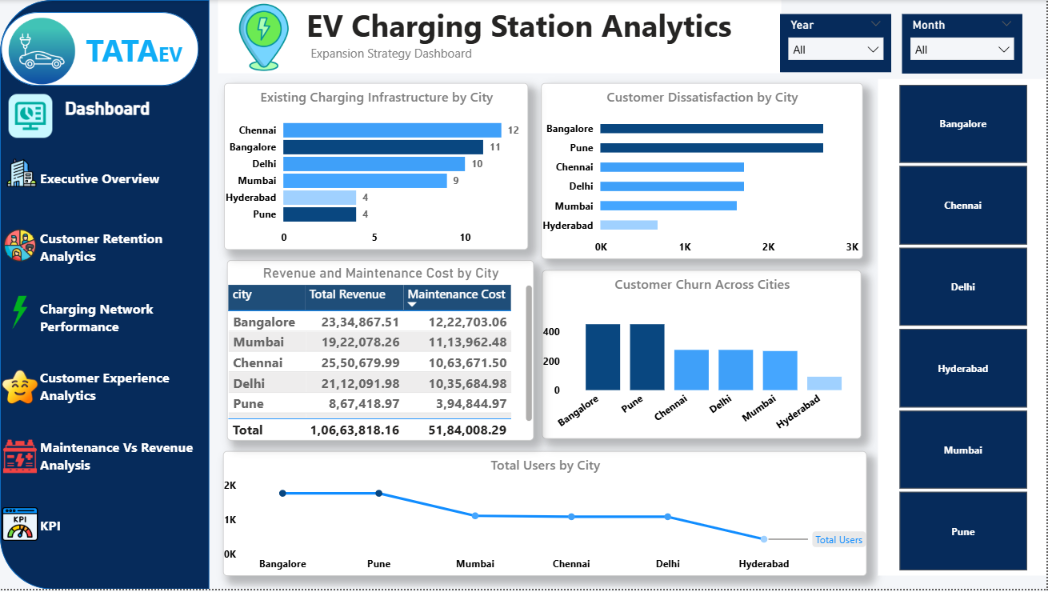

The page's visual inventory and layout, read from the dashboard file:
{"tool":"powerbi","page":{"name":"Expansion Strategy Dashboard","canvas":[1280,720],"ordinal":5},"visuals":[{"type":"group","id":"g1","title":"Group 2","box":[273.1,101.3,787.2,603.1],"z":0},{"type":"group","id":"g2","title":"Group 4","box":[266.6,0,688.5,89.3],"z":1000},{"type":"group","id":"g3","title":"Group 3","box":[0,0,256,720.7],"z":2000},{"type":"textbox","box":[266.6,0,688.5,89.3],"z":2000,"group":"g2"},{"type":"image","box":[269.4,3.7,107.4,84.4],"z":3000,"group":"g2"},{"type":"slicer","fields":{"Values":["City Table.city"]},"box":[1074,96.9,206,607.4],"z":3000},{"type":"shape","box":[0,0,256,720.7],"z":3500,"group":"g3"},{"type":"shape","box":[0.9,14.8,241.7,90.2],"z":3750,"group":"g3"},{"type":"slicer","fields":{"Values":["Date Table.Date.Variation.Date Hierarchy.Year"]},"box":[954.3,16.7,136.3,71.2],"z":4000},{"type":"pageNavigator","box":[49.4,182.5,205.8,495.4],"z":4000,"group":"g3"},{"type":"slicer","fields":{"Values":["Date Table.Date.Variation.Date Hierarchy.Month"]},"box":[1102.8,16.7,146.9,72.7],"z":5000},{"type":"image","box":[0,115.3,74.1,53.5],"z":6000,"group":"g3"},{"type":"textbox","box":[74.1,115.3,129,48],"z":8000,"group":"g3"},{"type":"image","box":[4.1,193.5,45.3,35.7],"z":12000,"group":"g3"},{"type":"lineChart","title":"Total Users by City","fields":{"Y":["customers(1).Total Users"],"Category":["City Table.city"]},"box":[273.1,551.5,787.2,153],"z":12250,"group":"g4"},{"type":"image","box":[0,278.6,49.4,42.5],"z":14000,"group":"g3"},{"type":"textbox","box":[99.8,30.5,129.4,59.6],"z":14500,"group":"g3"},{"type":"image","box":[2.7,20.3,97,83.4],"z":15500,"group":"g3"},{"type":"columnChart","title":"Customer Churn Across Cities","fields":{"Y":["CountNonNull(customers(1).Churn users)"],"Category":["City Table.city"]},"box":[663.7,329.4,390.6,206.7],"z":16000,"group":"g4"},{"type":"image","box":[0,360.9,49.4,42.5],"z":16000,"group":"g3"},{"type":"group","id":"g4","title":"Group 1","box":[273.1,101.3,787.2,603.1],"z":16001,"group":"g1"},{"type":"tableEx","title":"Revenue and Maintenance Cost by City","fields":{"Values":["stations.city","Sum(charging_sessions.amount_paid)","Sum(maintenance_logs.repair_cost)"]},"box":[278.2,318.2,374.9,220.9],"z":16062,"group":"g4"},{"type":"barChart","title":"Customer Dissatisfaction by City","fields":{"Y":["CountNonNull(feedback.feedback_id)"],"Category":["City Table.city"]},"box":[662.2,101.3,393.4,215.2],"z":16125,"group":"g4"},{"type":"clusteredBarChart","title":"Existing Charging Infrastructure by City","fields":{"Y":["CountNonNull(stations.station_id)"],"Category":["stations.city"]},"box":[274.5,101.3,372,203.8],"z":16250,"group":"g4"},{"type":"image","box":[0,451.5,49.4,43.9],"z":19000,"group":"g3"},{"type":"image","box":[0,536.5,49.4,42.5],"z":20000,"group":"g3"},{"type":"image","box":[0,618.9,49.4,43.9],"z":21000,"group":"g3"}]}

Visuals, with their boxes on the page's 1280x720 design canvas (x1, y1, x2, y2). These are canvas units, not pixel positions in the 1048x592 screenshot, which may show the page scaled, cropped or inside an application window:
"Group 2" group: (273,101,1060,704)
"Group 4" group: (267,0,955,89)
"Group 3" group: (0,0,256,721)
textbox: (267,0,955,89)
image: (269,4,377,88)
slicer - City Table.city: (1074,97,1280,704)
shape: (0,0,256,721)
shape: (1,15,243,105)
slicer - Date Table.Date.Variation.Date Hierarchy.Year: (954,17,1091,88)
pageNavigator: (49,182,255,678)
slicer - Date Table.Date.Variation.Date Hierarchy.Month: (1103,17,1250,89)
image: (0,115,74,169)
textbox: (74,115,203,163)
image: (4,194,49,229)
"Total Users by City" lineChart: (273,552,1060,704)
image: (0,279,49,321)
textbox: (100,30,229,90)
image: (3,20,100,104)
"Customer Churn Across Cities" columnChart: (664,329,1054,536)
image: (0,361,49,403)
"Group 1" group: (273,101,1060,704)
"Revenue and Maintenance Cost by City" tableEx: (278,318,653,539)
"Customer Dissatisfaction by City" barChart: (662,101,1056,316)
"Existing Charging Infrastructure by City" clusteredBarChart: (274,101,646,305)
image: (0,452,49,495)
image: (0,536,49,579)
image: (0,619,49,663)
